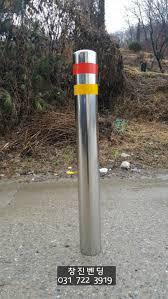Animal: (67, 55, 112, 250)
